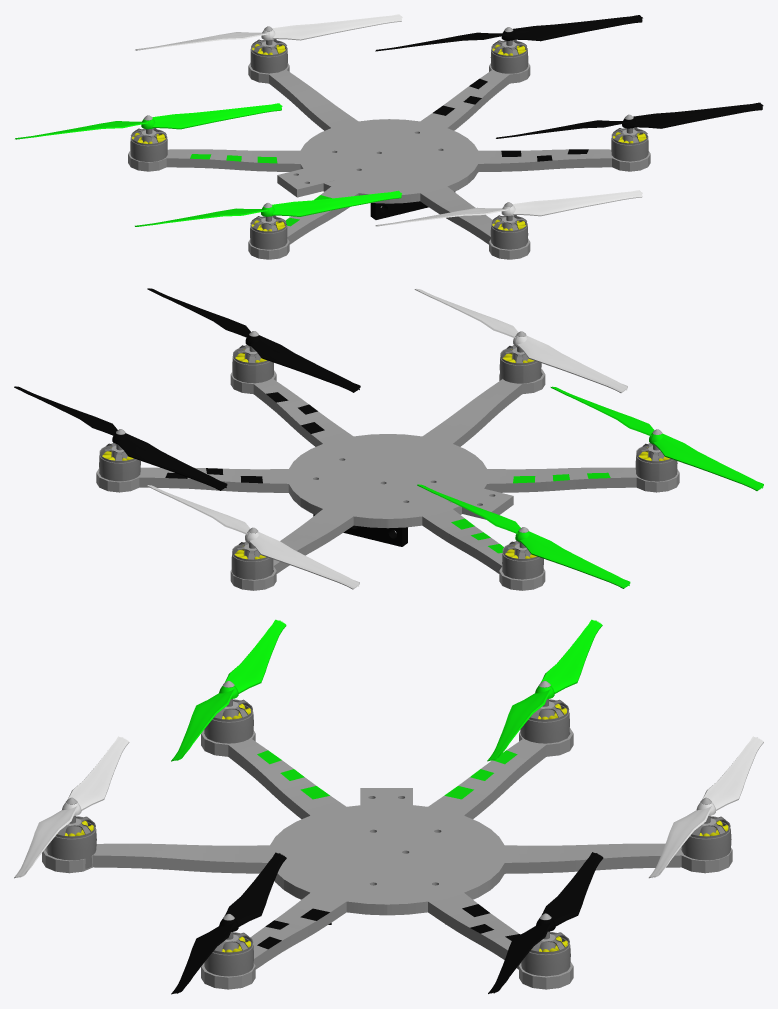
The model's file is uav_6_3.fbx.
3 renders of one model, top to bottom at view 1: azimuth 30°, elevation 25°; view 2: azimuth 150°, elevation 25°; view 3: azimuth 270°, elevation 25°, orthographic. The views are drawn at different scales.
Parts seen in each view (by area): view 1: coil_7_3028; view 2: coil_7_3028; view 3: coil_7_3028.
Part boxes in pixels (x1=…): coil_7_3028: x1=15, y1=14, x2=763, y2=259; coil_7_3028: x1=14, y1=288, x2=763, y2=590; coil_7_3028: x1=14, y1=619, x2=763, y2=994.
Bounding box in the file's own units: 42.23 × 5.24 × 35.19.
